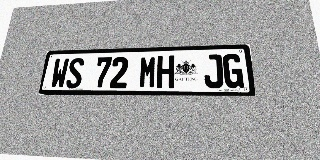2: (110, 57, 129, 88)
7: (93, 57, 112, 88)
G: (222, 54, 244, 88)
H: (156, 55, 174, 88)
J: (204, 54, 224, 88)
M: (139, 56, 157, 88)
S: (65, 58, 85, 88)
W: (50, 58, 69, 88)
